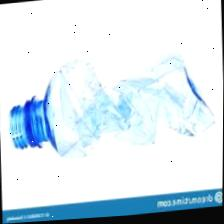plastic: (8, 35, 219, 176)
